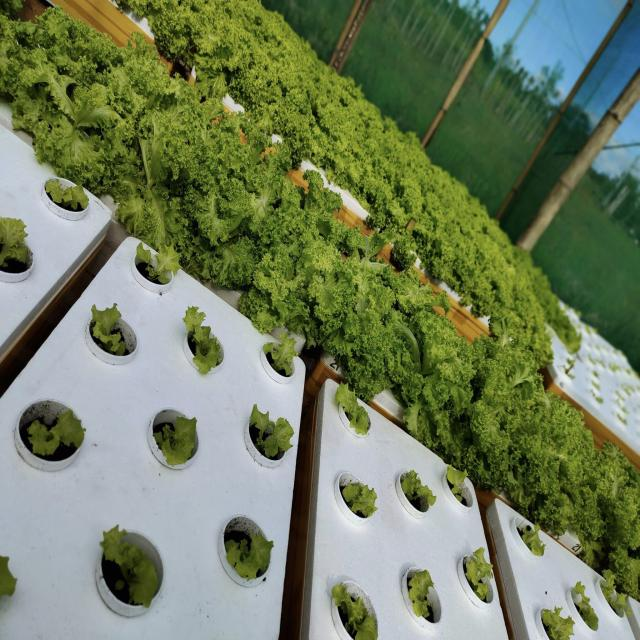Lettuce-Not-Ready-to-Harvest: (28, 408, 86, 464), (227, 526, 275, 581), (332, 581, 376, 640), (152, 414, 198, 469), (186, 307, 222, 375), (251, 407, 295, 462), (90, 303, 133, 357), (137, 240, 183, 285), (336, 380, 370, 436), (43, 177, 88, 212), (0, 214, 29, 268), (464, 546, 493, 599), (574, 578, 599, 633), (265, 332, 297, 374), (403, 468, 438, 506), (540, 601, 574, 640), (343, 482, 379, 517), (409, 569, 431, 619), (522, 523, 546, 559)
